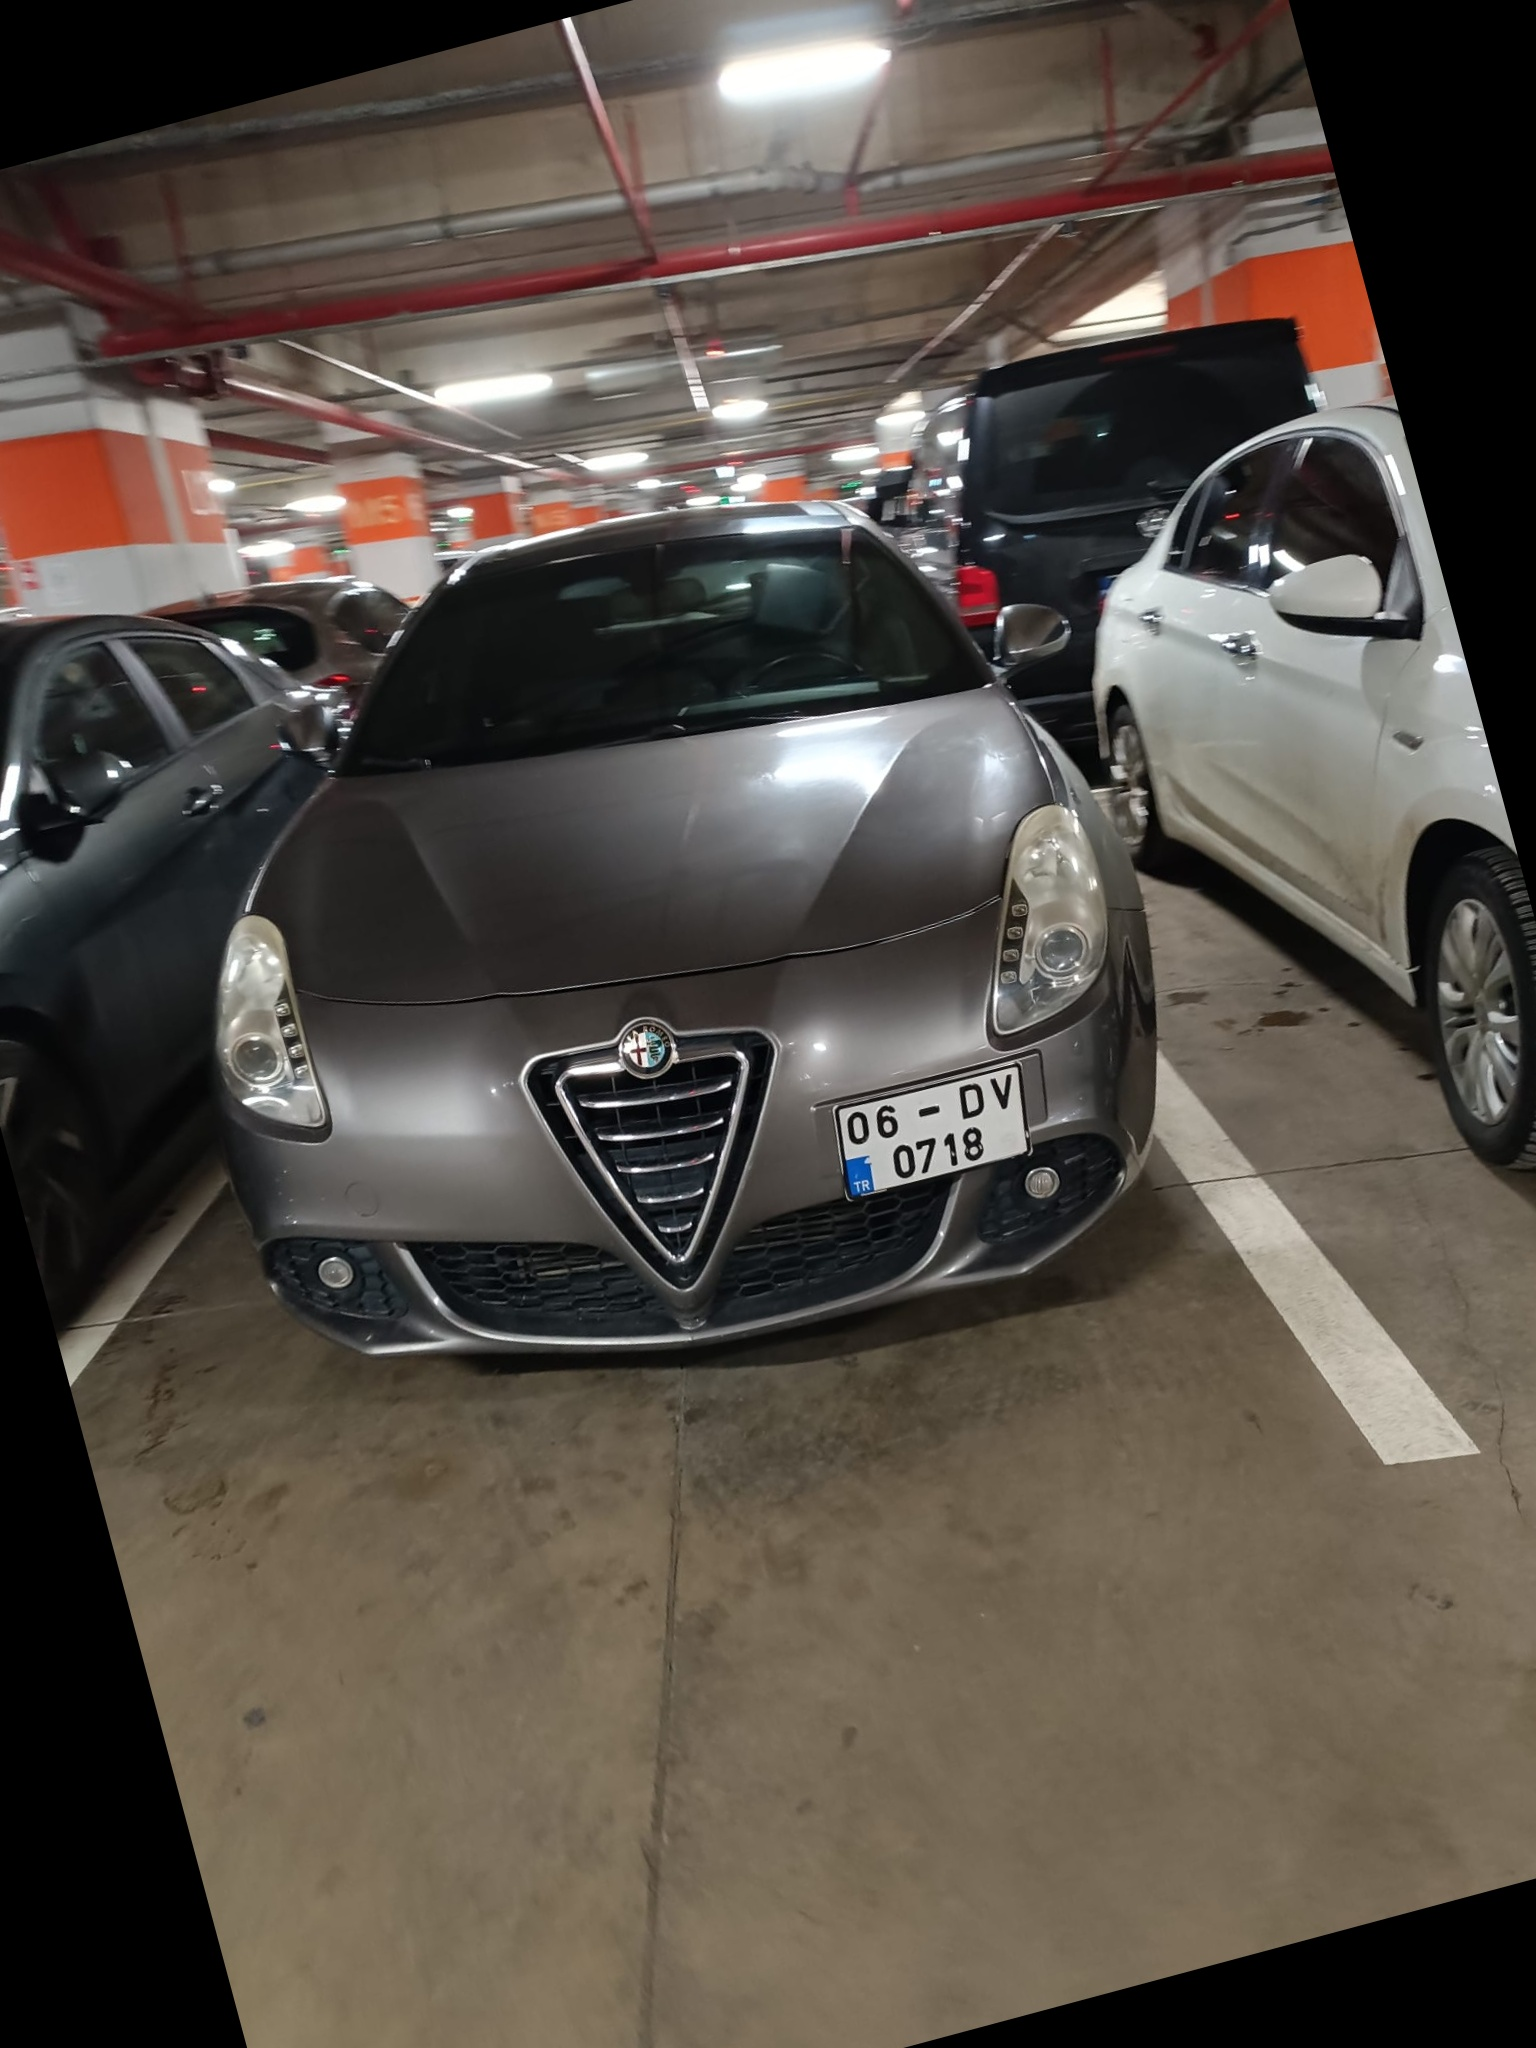plaka: (828, 1059, 1039, 1191)
